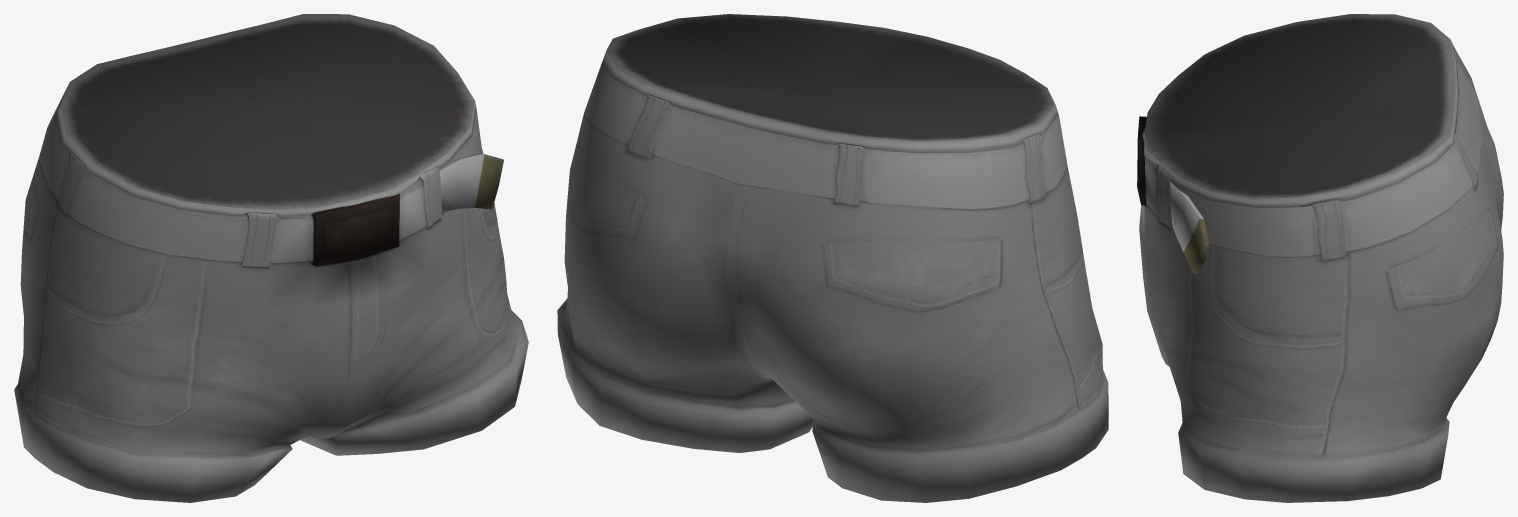
File: SurvivorMale_Legs_Pants_ShortShorts_LOD0.glb
3 views of the same model, side by side, from view 1: azimuth 30°, elevation 25°; view 2: azimuth 150°, elevation 25°; view 3: azimuth 270°, elevation 25° (orthographic). The views are drawn at different scales.
Parts seen in each view (by area): view 1: Hoodie; view 2: Hoodie; view 3: Hoodie.
Part boxes in pixels (<box>): Hoodie: <box>14,14,528,502</box>; Hoodie: <box>557,14,1108,502</box>; Hoodie: <box>1137,14,1503,502</box>.
Size of the model in its own units: 0.3955 by 0.2811 by 0.2731.
Materials: 1 (1 with a texture image).
